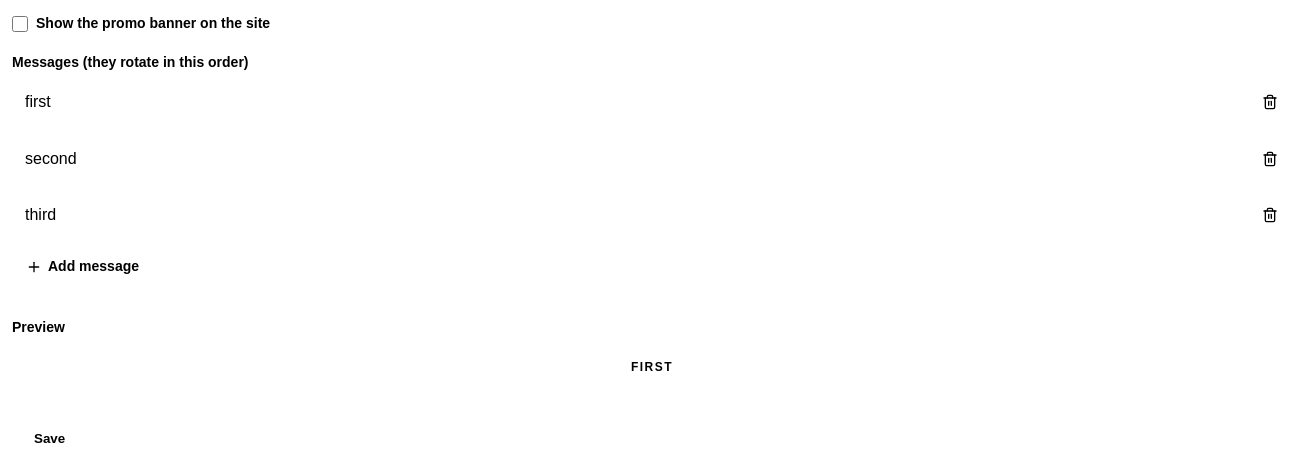
Scenario: PromoBannerForm › keeps each remaining row bound to its own DOM node when an earlier row is removed
This screenshot has width=1304, height=460.
Check: the field showing "first" is shown, box left=12, top=78, right=1240, bottom=127
Click the button named "remove message". click: click(1270, 102)
box: left=1248, top=86, right=1292, bottom=118
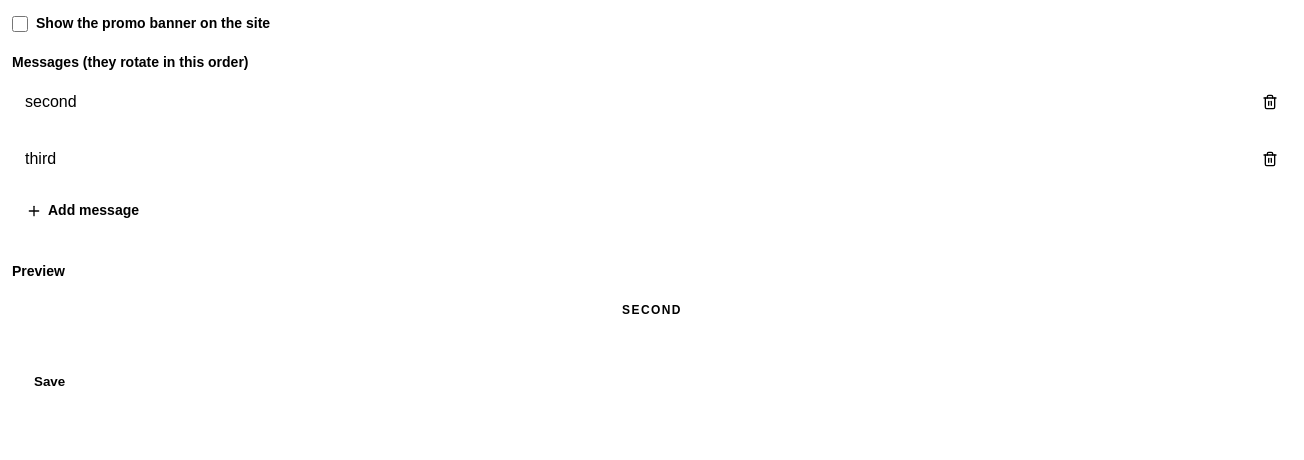
Check: the field named "Message 1" holds "second", box left=12, top=78, right=1240, bottom=127
Check: the number of fields named "Message 1" is 2, box left=12, top=78, right=1240, bottom=127; left=12, top=135, right=1240, bottom=183
